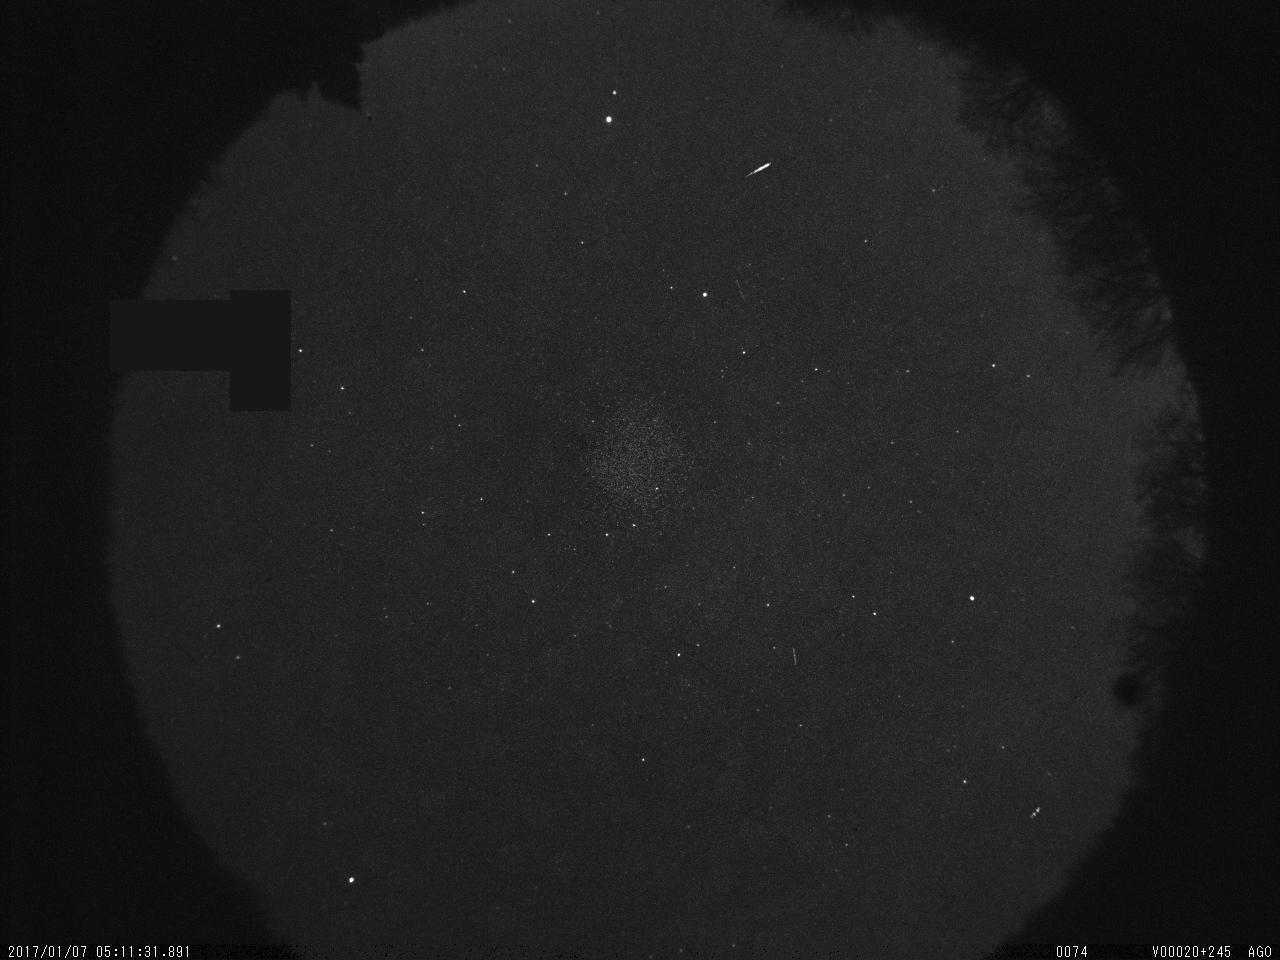Meteor: (744, 159, 775, 177)
